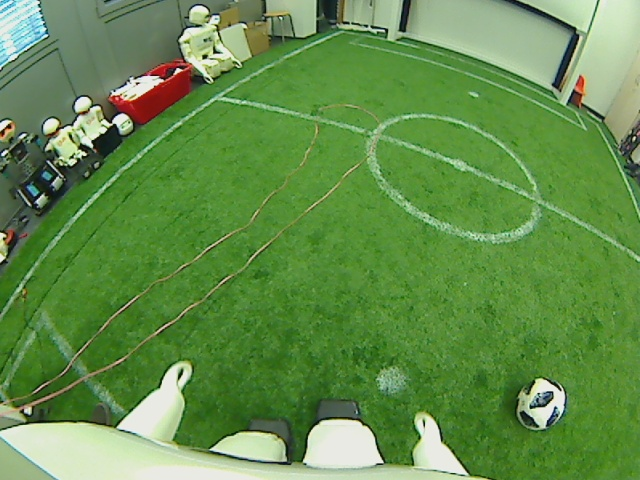ball: (513, 377, 569, 433)
